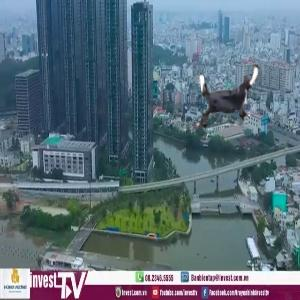drone: (190, 60, 267, 137)
